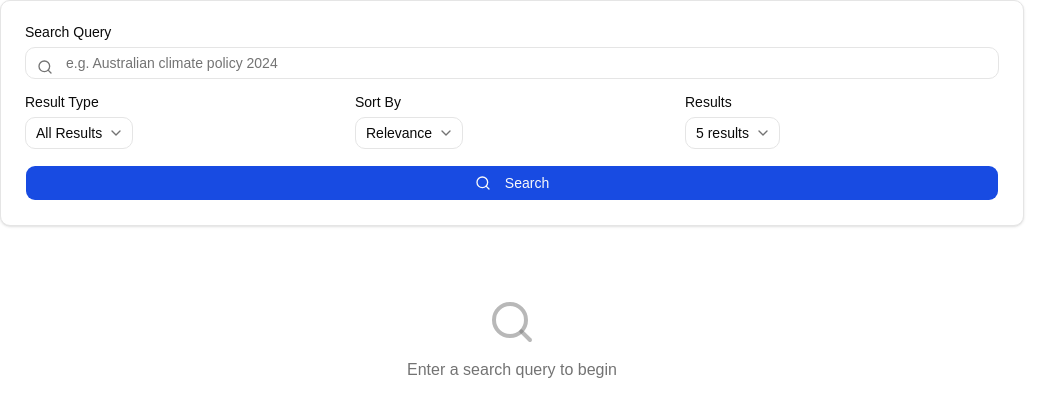
Test: ResearcherSearchPage › shows error message on failure
Type "fail" into the field with placeholder "e.g. Australian climate policy 2024". click: (512, 63)
box: x1=25 y1=47 x2=999 y2=79
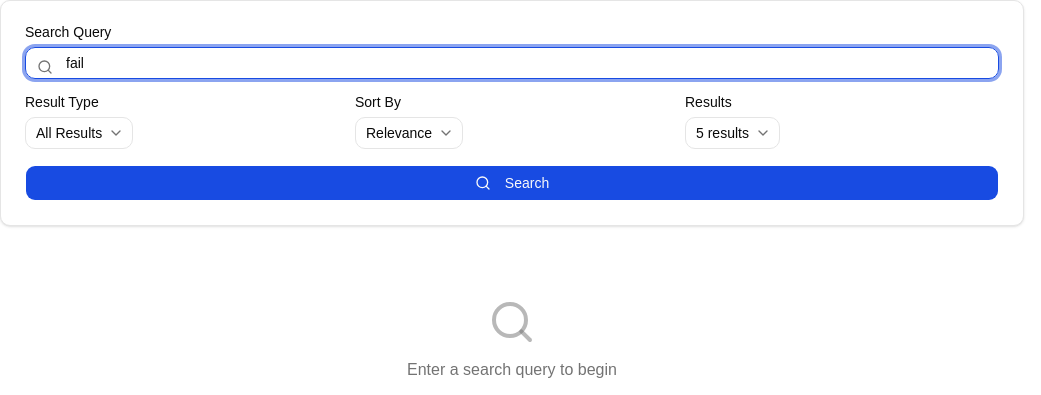
Click the button "Search". click: (512, 183)
box: x1=25 y1=165 x2=999 y2=201
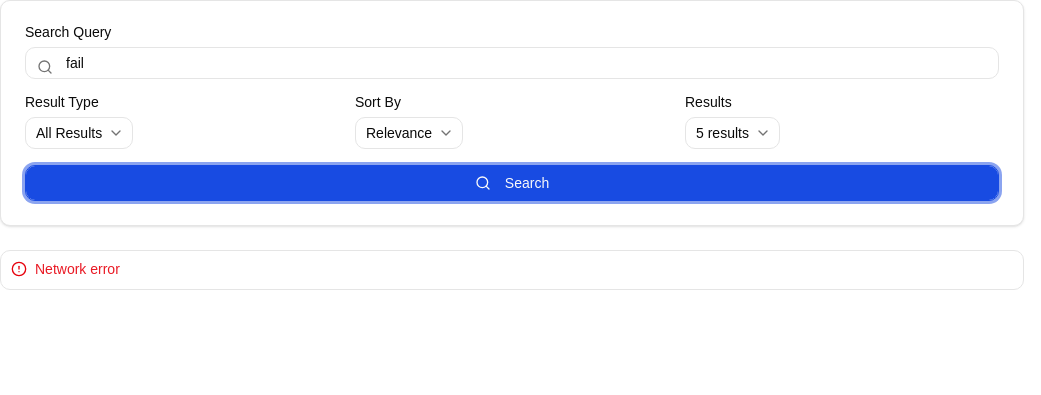
Result: the text "Network error" is shown at x1=35 y1=261 x2=120 y2=277
